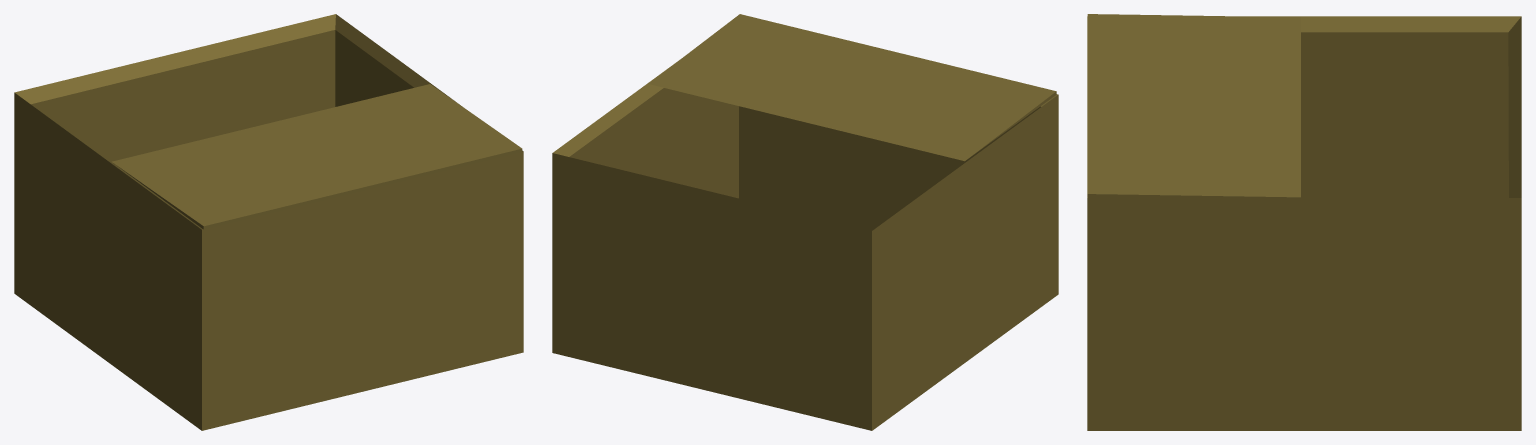
3 renders of one model, left to right at view 1: azimuth 30°, elevation 25°; view 2: azimuth 150°, elevation 25°; view 3: azimuth 270°, elevation 25°, orthographic. The views are drawn at different scales.
Parts seen in each view (by area): view 1: Box, Top; view 2: Box, Top; view 3: Box, Top.
Boxes of the visible parts, x1=… form: Box: x1=14, y1=14, x2=523, y2=430; Top: x1=112, y1=84, x2=522, y2=229; Box: x1=552, y1=62, x2=1058, y2=430; Top: x1=648, y1=14, x2=1056, y2=161; Box: x1=1087, y1=16, x2=1521, y2=430; Top: x1=1087, y1=14, x2=1300, y2=197.
Size of the model in its own units: 393 by 238 by 397.
